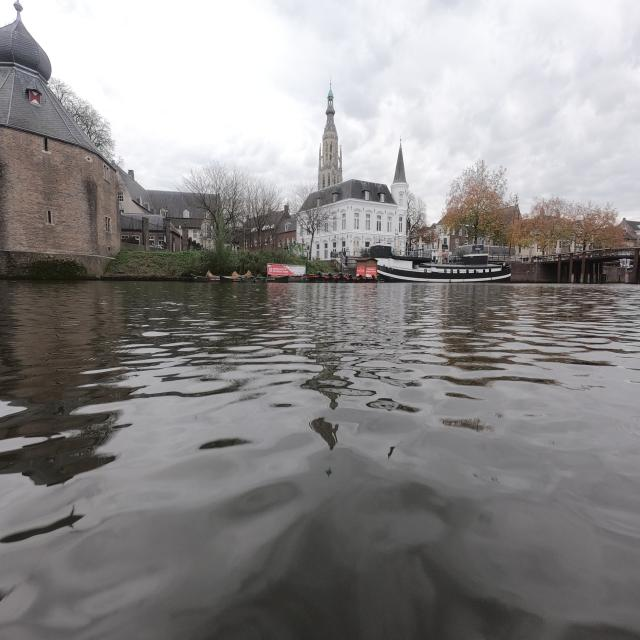boat: (380, 254, 508, 282)
grass: (108, 248, 244, 278), (270, 258, 338, 274)
sky: (22, 4, 638, 222)
wall: (510, 262, 558, 284)
water: (8, 290, 638, 634)
